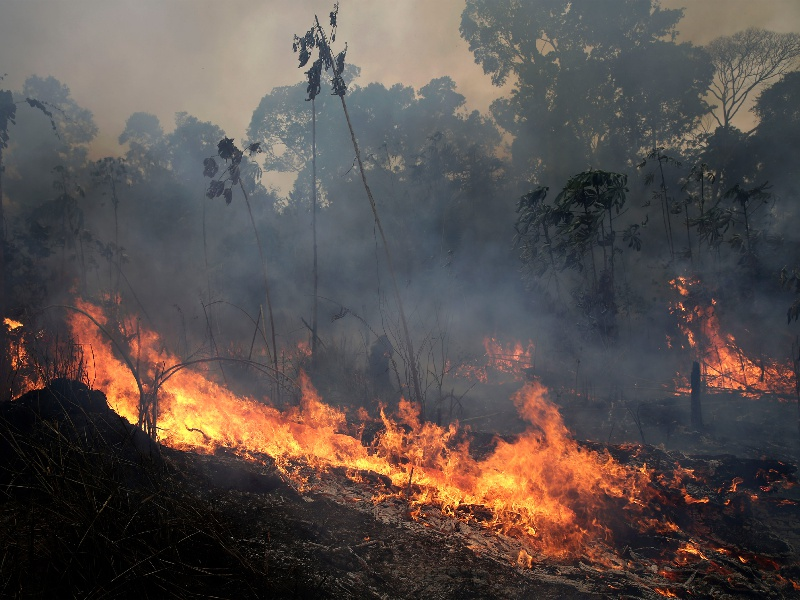fire: (65, 277, 309, 452), (318, 363, 622, 469), (680, 278, 800, 403), (338, 473, 625, 517), (500, 514, 615, 559), (665, 454, 716, 515), (475, 328, 548, 367), (622, 461, 657, 510), (676, 535, 713, 565)
